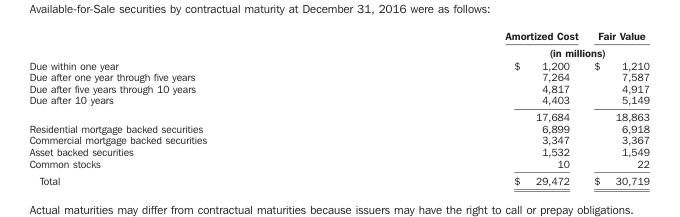table: (28, 28, 648, 185)
table column: (28, 28, 355, 185), (355, 28, 585, 185), (585, 28, 648, 185)
table column header: (28, 28, 648, 58)
table row: (28, 28, 648, 43), (28, 43, 648, 58), (28, 93, 648, 108), (28, 108, 648, 122), (28, 157, 648, 171), (28, 171, 648, 185), (28, 58, 648, 70), (28, 70, 648, 82), (28, 133, 648, 145), (28, 145, 648, 157), (28, 82, 648, 93), (28, 122, 648, 133)
table spanning cell: (355, 43, 648, 58)
